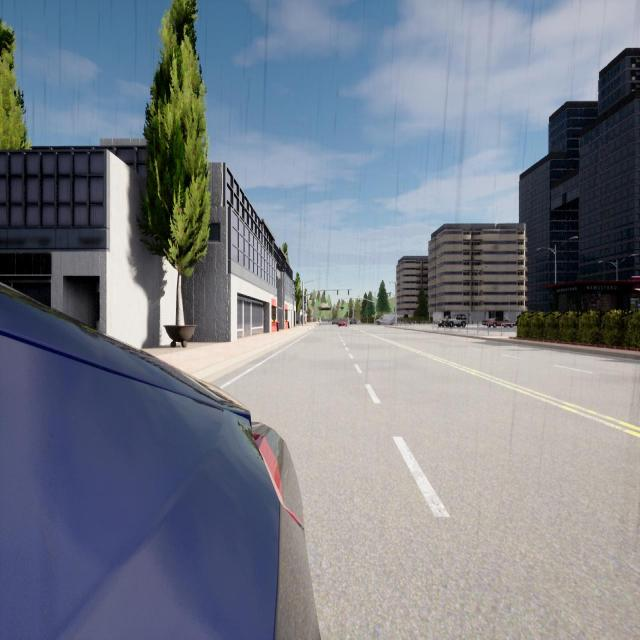Vehicle: (0, 284, 318, 638), (482, 316, 516, 328), (448, 314, 467, 328), (377, 314, 398, 326), (438, 315, 449, 327), (350, 317, 360, 325), (338, 319, 348, 327), (332, 318, 338, 325)
traffic_light: (394, 306, 395, 312), (348, 289, 349, 295), (324, 290, 325, 295), (337, 290, 338, 295), (359, 298, 360, 302), (349, 299, 350, 302), (375, 310, 376, 312), (390, 293, 390, 297), (342, 298, 342, 301)
